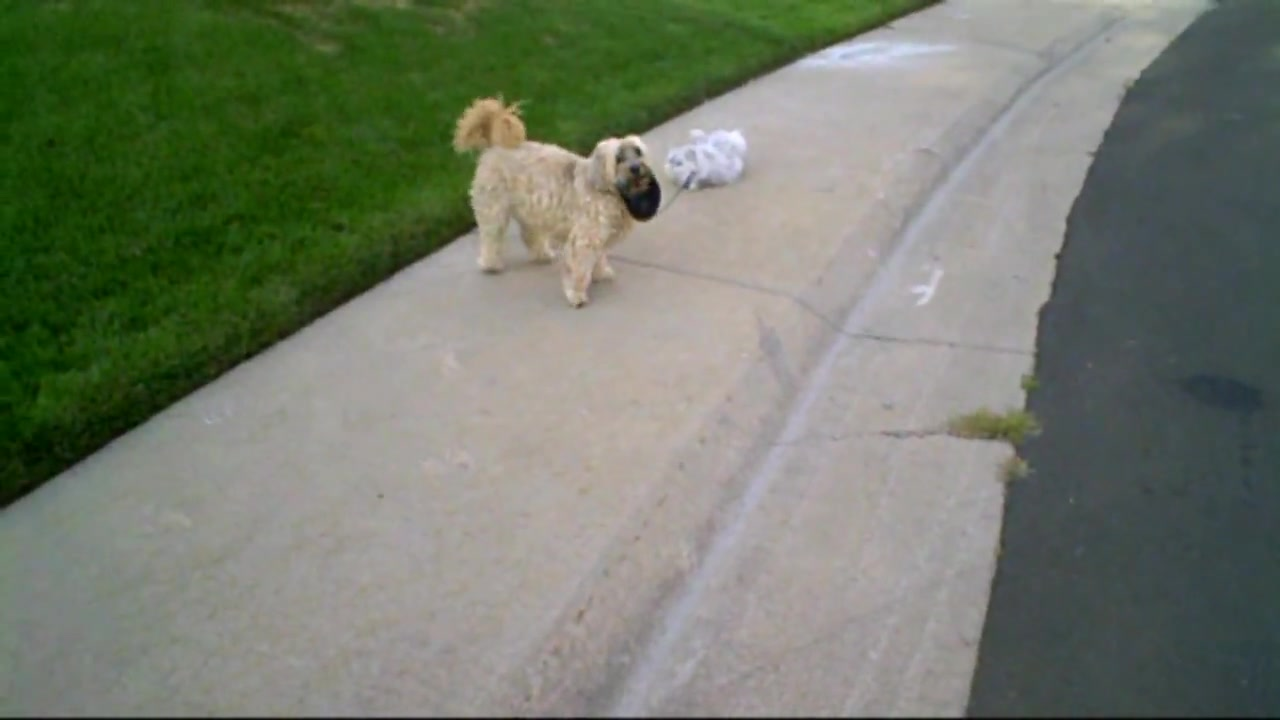dog: (452, 92, 655, 312)
